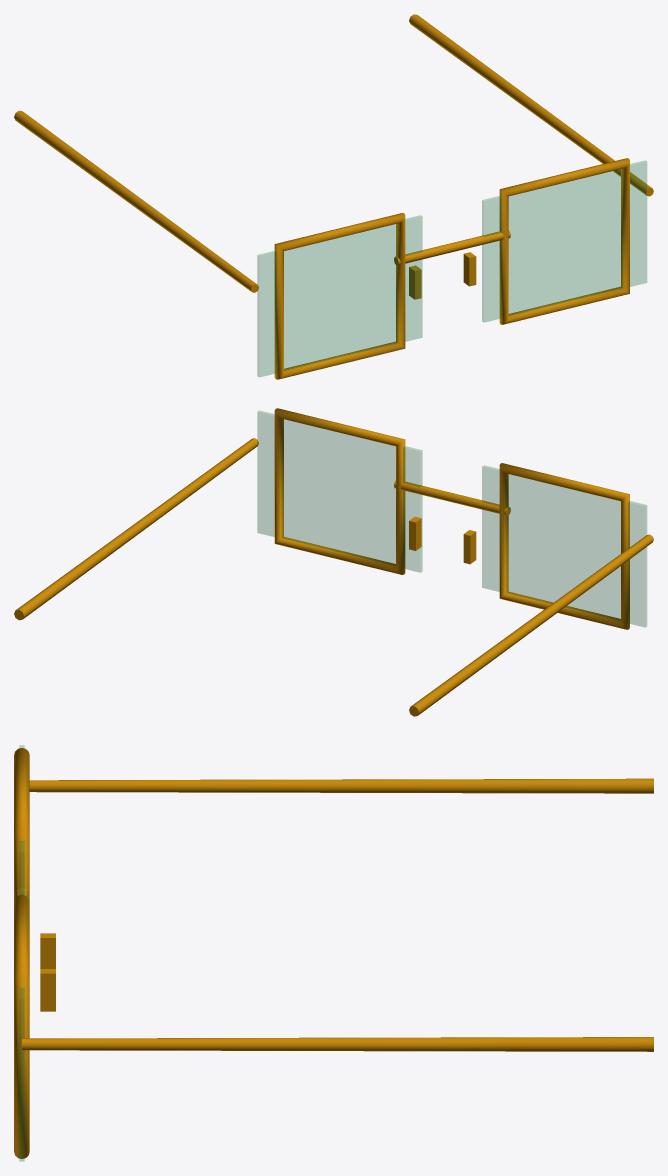
Rendered from classic_aviator_gold.glb.
3 views of the same model, one above another, from view 1: azimuth 30°, elevation 25°; view 2: azimuth 150°, elevation 25°; view 3: azimuth 270°, elevation 25° (orthographic). The views are drawn at different scales.
Visible parts, largest first — view 1: rightLens, leftLens, rightRim, leftRim, rightTemple, leftTemple, noseBridge; view 2: leftLens, rightLens, leftRim, rightRim, rightTemple, leftTemple, noseBridge; view 3: leftTemple, rightTemple, leftRim, rightRim, leftLens, nosePad_1.
Part boxes in pixels (x1,y1,x2,y2): rightLens: (257, 215, 422, 376); leftLens: (482, 160, 646, 322); rightRim: (274, 213, 405, 379); leftRim: (499, 158, 629, 324); rightTemple: (14, 110, 258, 292); leftTemple: (409, 14, 653, 196); noseBridge: (394, 230, 510, 265); leftLens: (257, 411, 422, 572); rightLens: (482, 465, 646, 627); leftRim: (274, 408, 405, 574); rightRim: (499, 463, 629, 629); rightTemple: (409, 534, 653, 716); leftTemple: (14, 438, 258, 620); noseBridge: (394, 480, 510, 515); leftTemple: (22, 1037, 653, 1051); rightTemple: (29, 778, 653, 793); leftRim: (14, 895, 29, 1158); rightRim: (14, 748, 29, 901); leftLens: (19, 892, 24, 1161); nosePad_1: (40, 969, 55, 1011).
Size of the model in its own units: 0.119 by 0.0378 by 0.1215.
